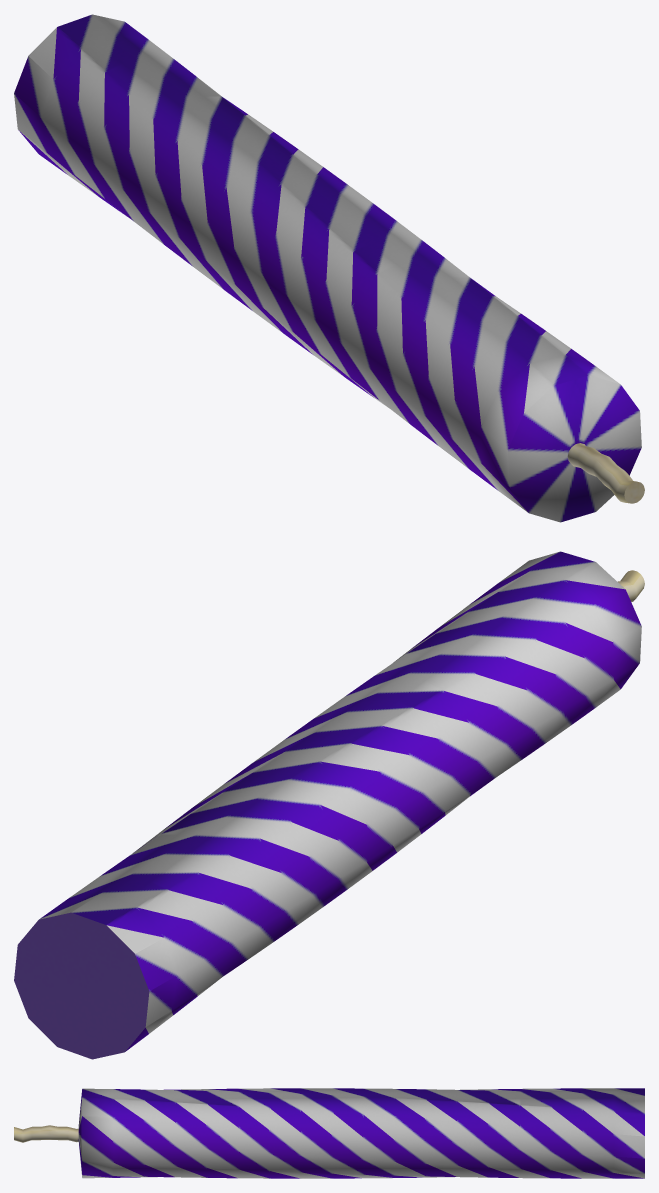
Rendered from candle.obj.
3 renders of one model, top to bottom at view 1: azimuth 30°, elevation 25°; view 2: azimuth 150°, elevation 25°; view 3: azimuth 270°, elevation 25°, orthographic. The views are drawn at different scales.
Visible parts, largest first — view 1: Capsule001; view 2: Capsule001; view 3: Capsule001.
Part boxes in pixels (bbox=[...]): Capsule001: bbox=[14, 14, 644, 522]; Capsule001: bbox=[14, 551, 644, 1059]; Capsule001: bbox=[14, 1088, 644, 1178].
Size of the model in its own units: 8.71 by 8.71 by 60.86.
Materials: 1 (1 with a texture image).
